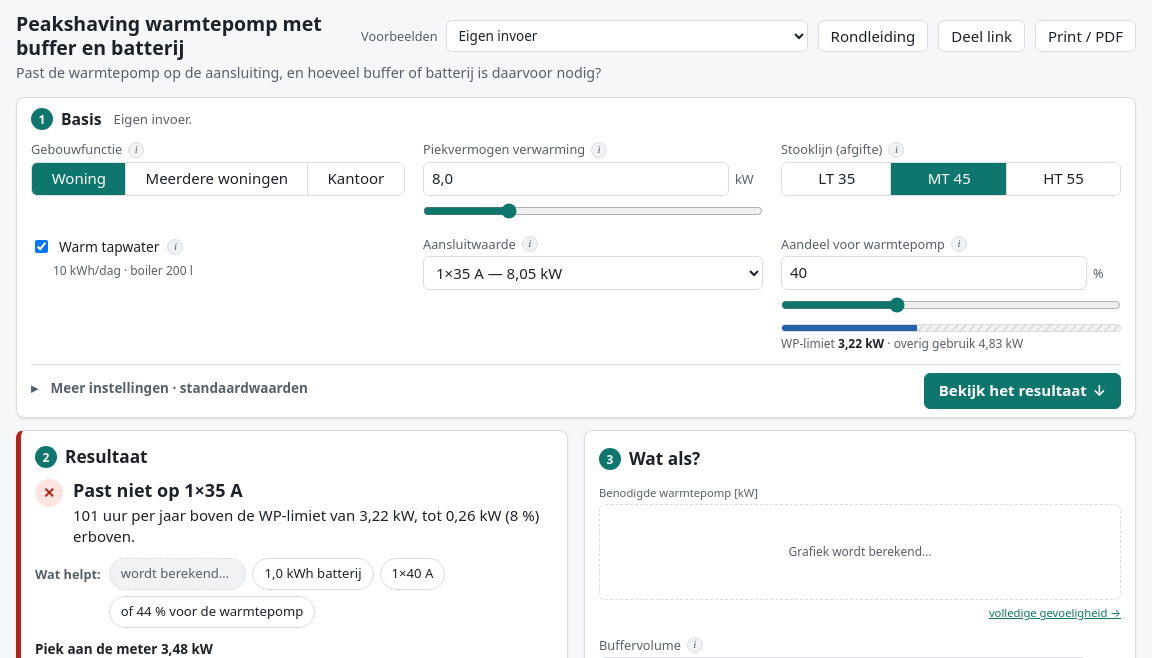
it: invoerblok Gebouw: meerdere woningen › samenvatting (printversie) en KPI-kaart tonen het aantal woningen en de waarde per woning
Click the button "Meerdere woningen" at (216, 178), box [125,162,308,195]
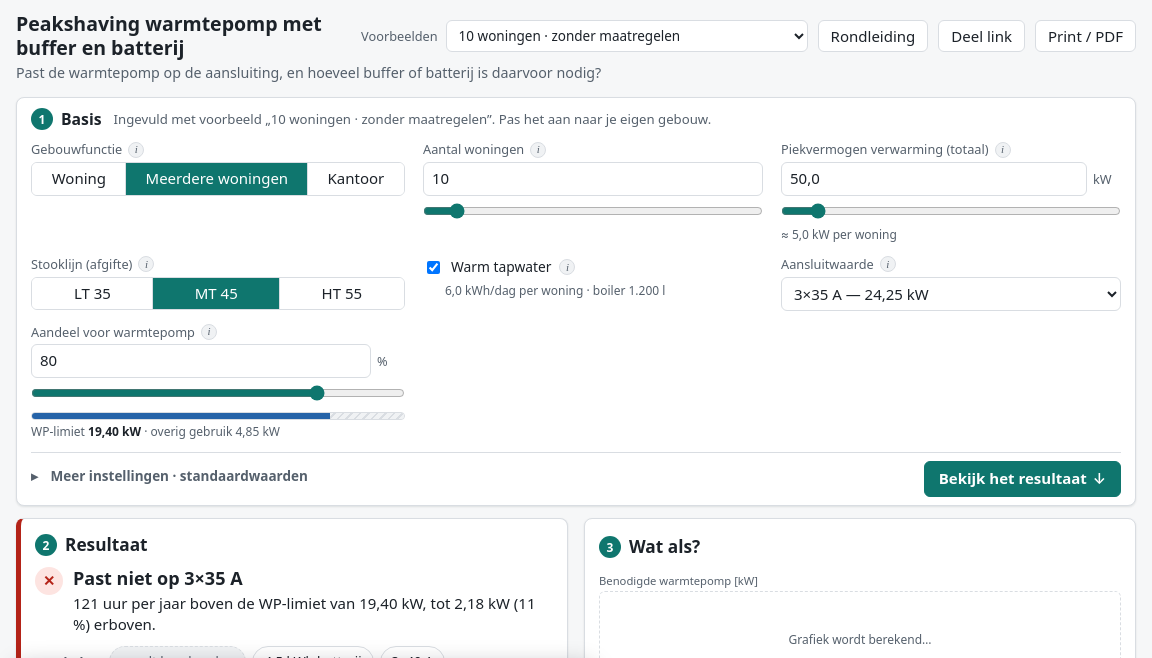
Click the button "Woning" at (78, 178), box [31,162,126,195]
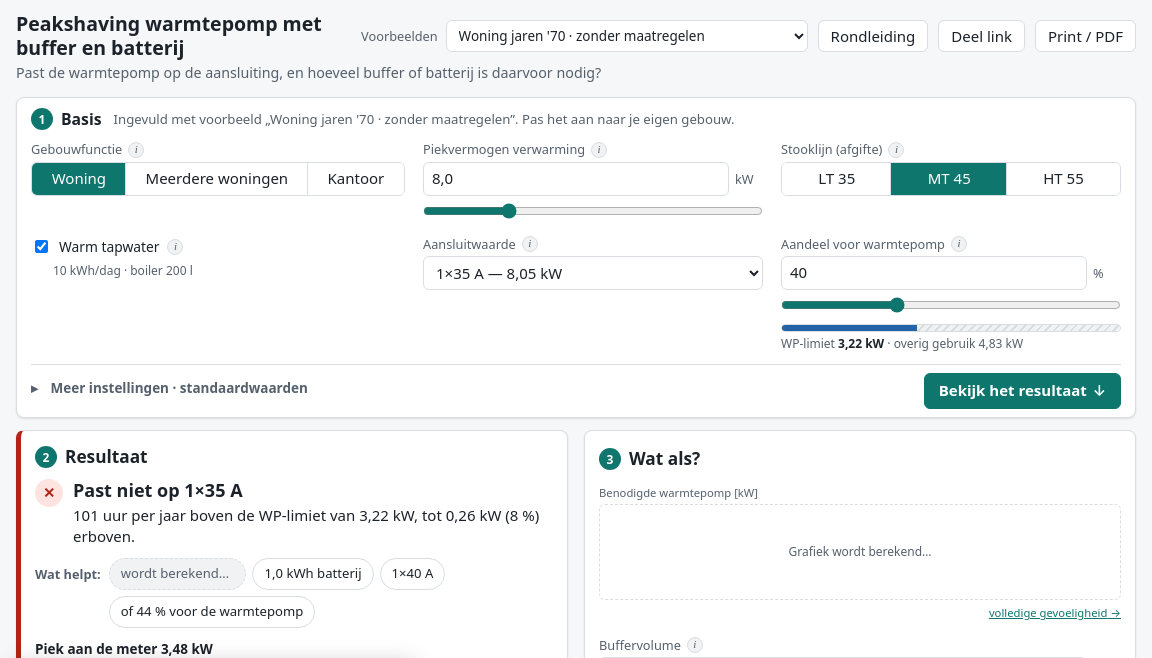
Check: the text "kW per woning" is gone
